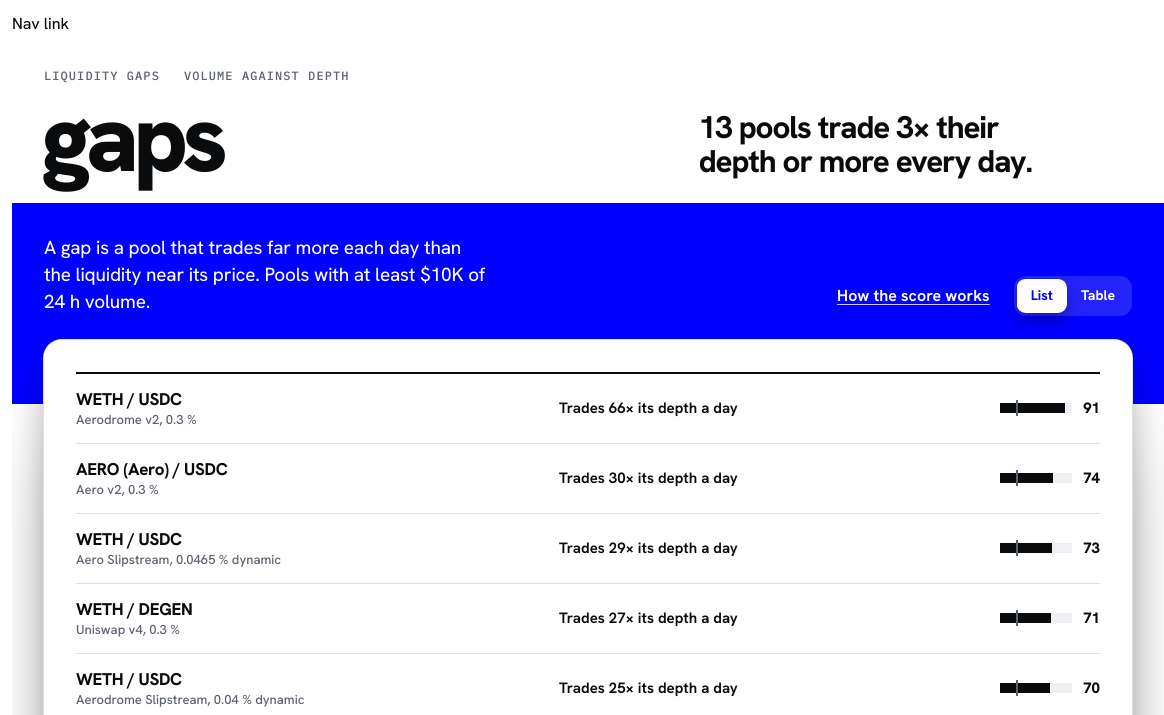
Test case: Gaps: the table view (L2) › switches views in the URL and shows every v2 column in a table sheet
The image size is (1164, 715).
Click the radio button labelled "Table" at (1098, 296), box [1067,279,1129,313]
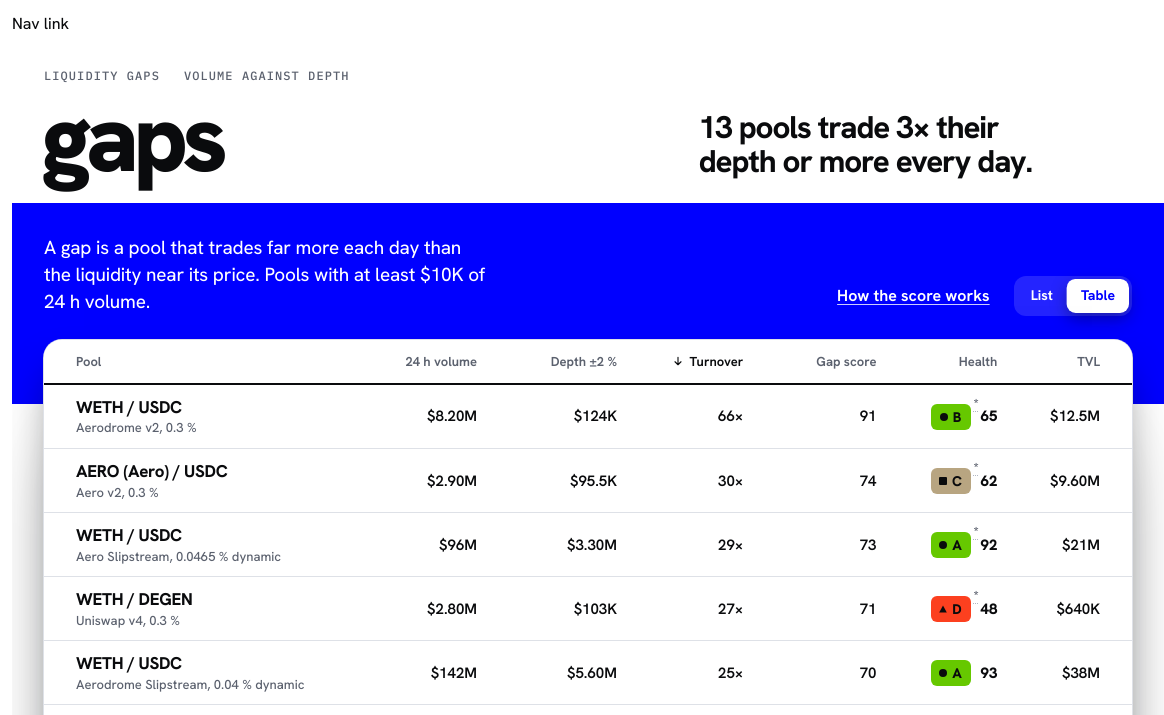
Expected: the number of rows is 18
